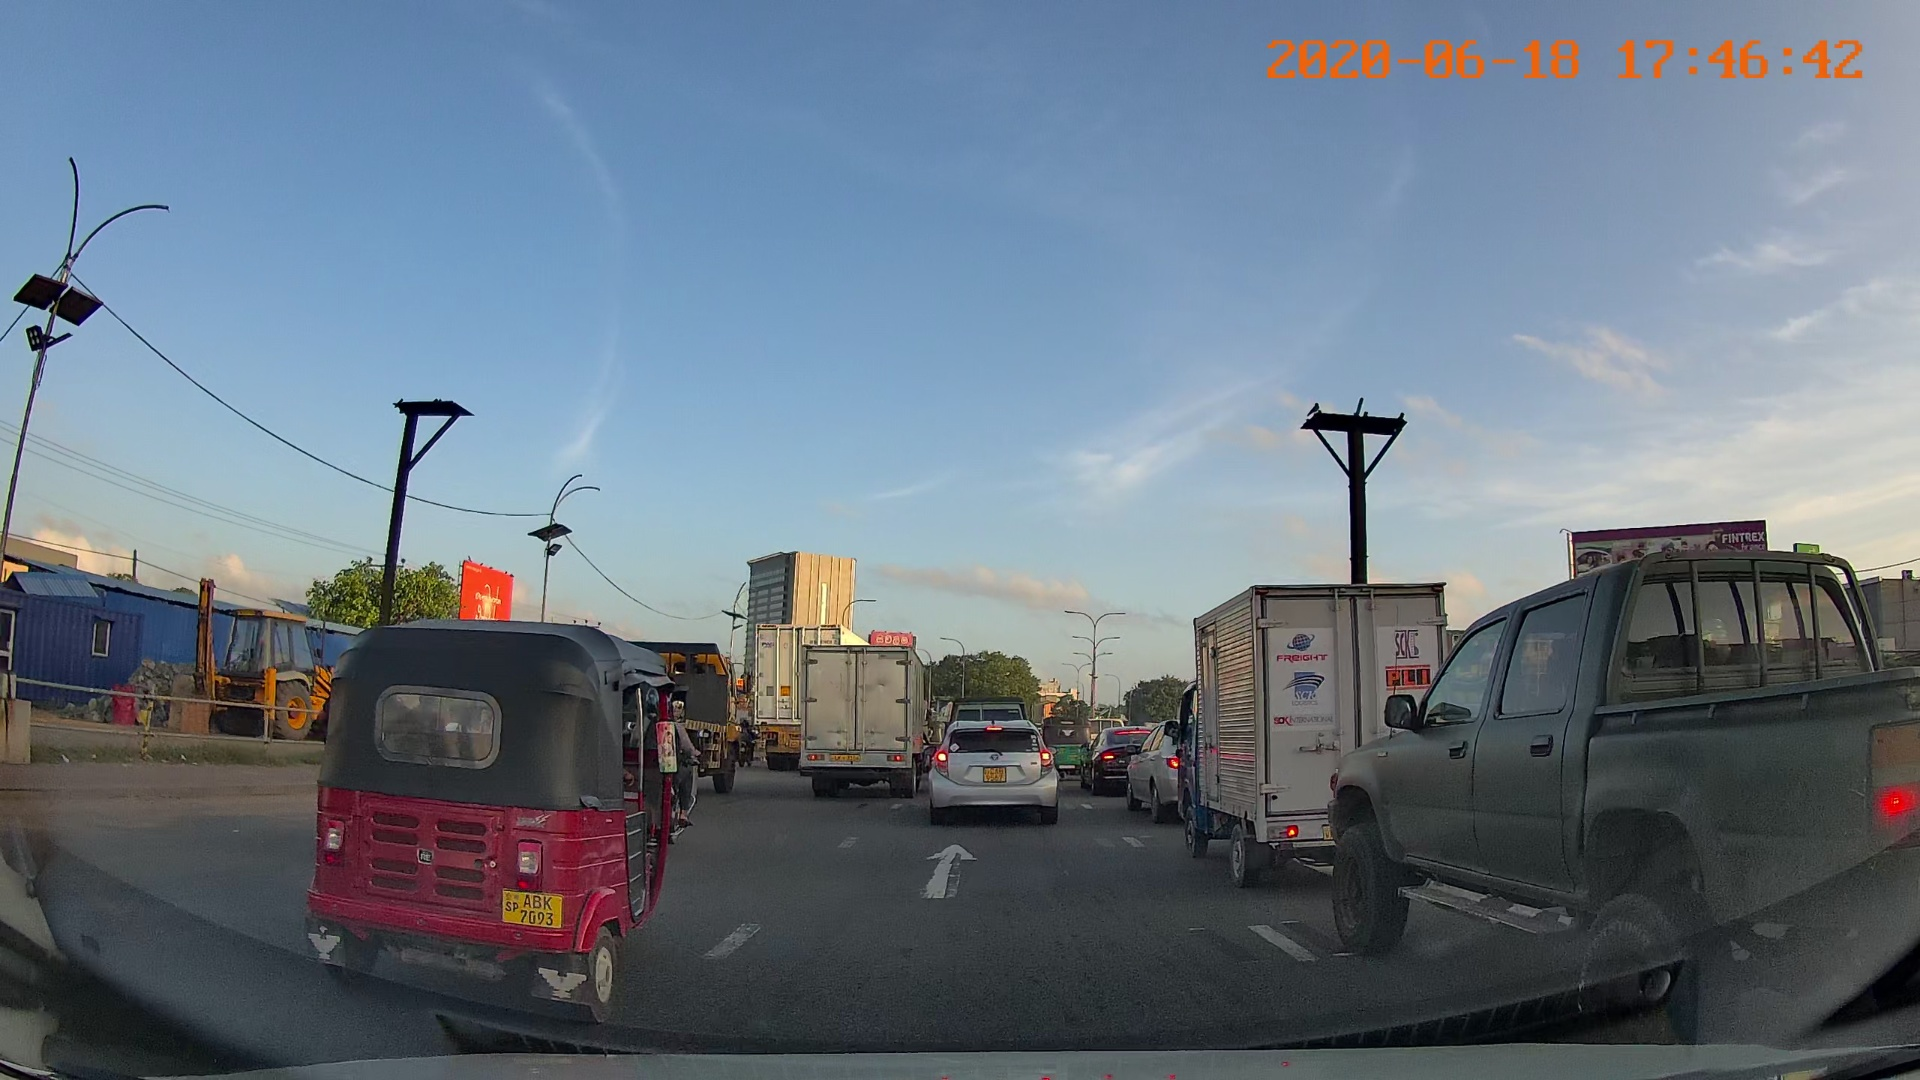arrow: (928, 831, 980, 899)
